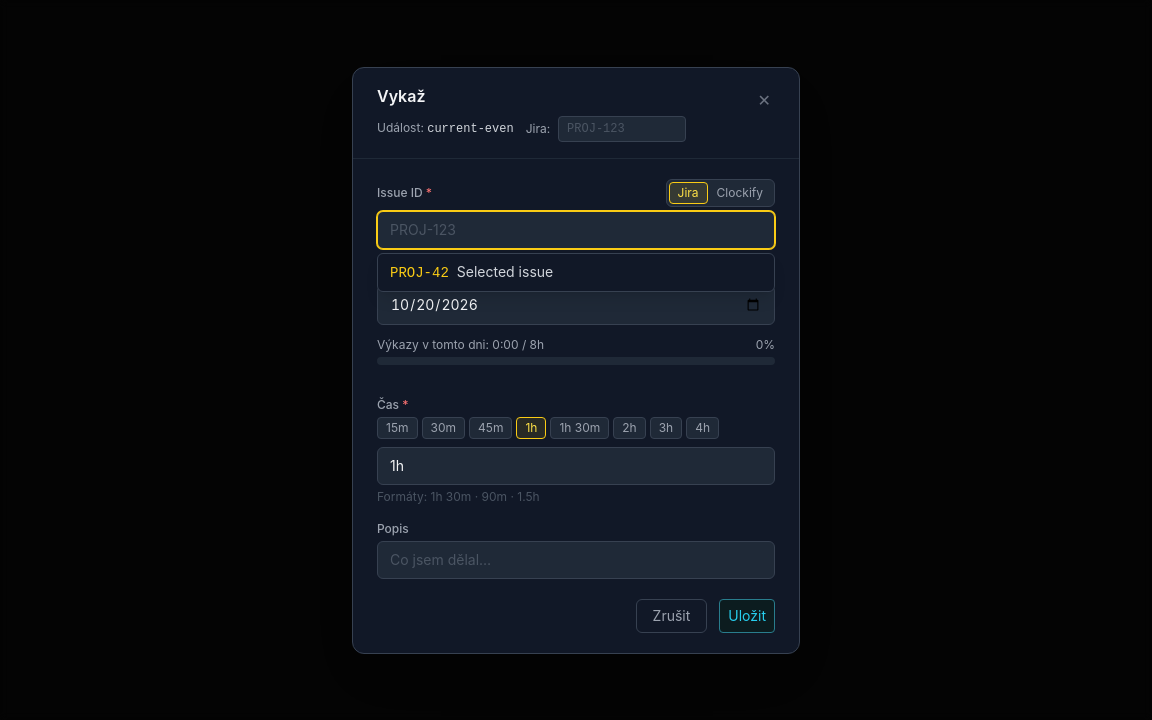
calendar binding header › synchronizes an autocomplete selection
Press the mouse on the option "PROJ-42 Selected issue" at (472, 272), box x1=390 y1=262 x2=553 y2=280
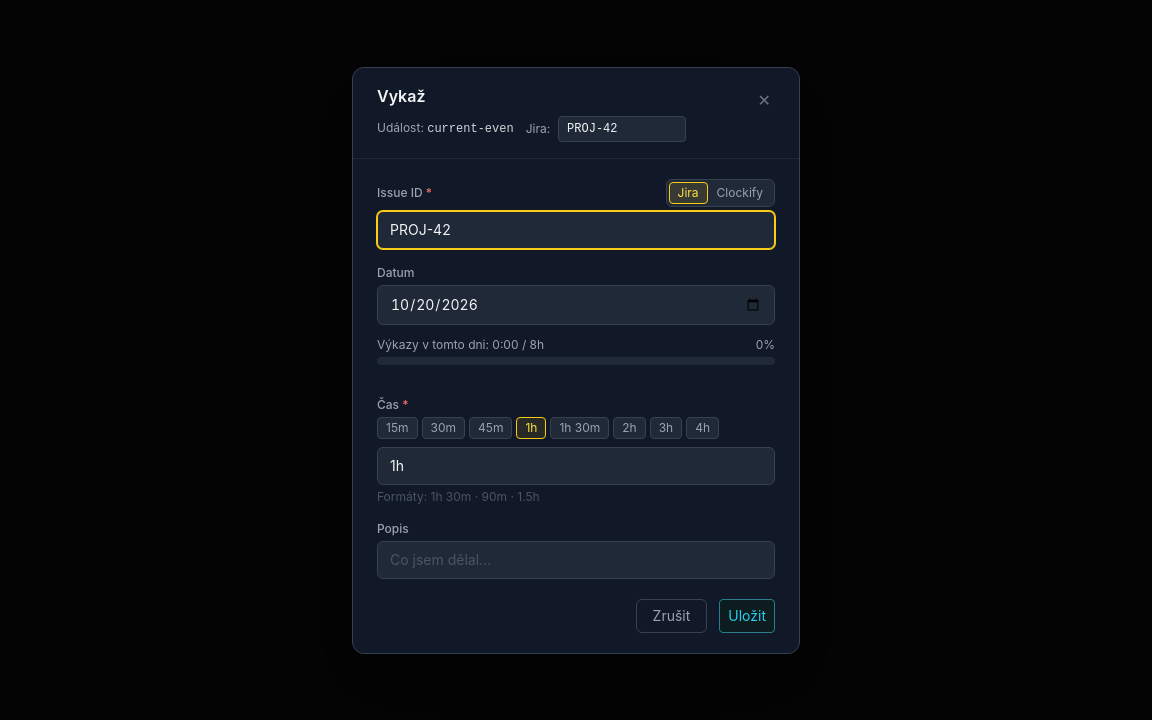
Result: the field labelled "Jira:" holds "PROJ-42" at x1=558 y1=116 x2=686 y2=142
